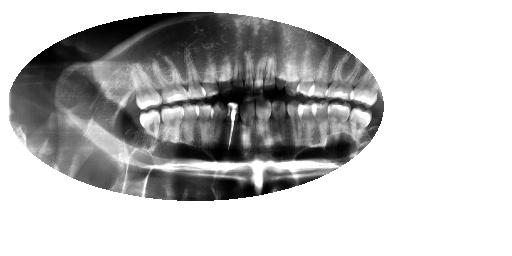i10healthy: (224, 96, 238, 156)
i11healthy: (211, 93, 230, 162)
i12healthy: (192, 97, 216, 156)
i13healthy: (180, 99, 201, 158)
i14healthy: (159, 101, 185, 158)
i15healthy: (136, 103, 163, 164)
i2healthy: (347, 98, 373, 156)
i3healthy: (324, 98, 353, 145)
i4healthy: (308, 95, 333, 151)
i5healthy: (294, 94, 318, 152)
i6healthy: (284, 95, 307, 154)
i7decay: (270, 94, 289, 156)
i8decay: (253, 87, 274, 159)
i9decay: (236, 93, 262, 156)
u10decay: (230, 51, 245, 99)
u11decay: (216, 48, 232, 98)
u12healthy: (197, 43, 218, 102)
u13healthy: (181, 44, 208, 101)
u14healthy: (149, 46, 191, 109)
u15healthy: (125, 58, 165, 113)
u2healthy: (349, 62, 379, 110)
u3healthy: (324, 44, 363, 103)
u4healthy: (306, 45, 335, 99)
u5healthy: (294, 47, 318, 99)
u6chipped: (274, 42, 300, 100)
u7chipped: (264, 43, 276, 97)
u8decay: (250, 49, 266, 97)
u9decay: (241, 47, 256, 95)
